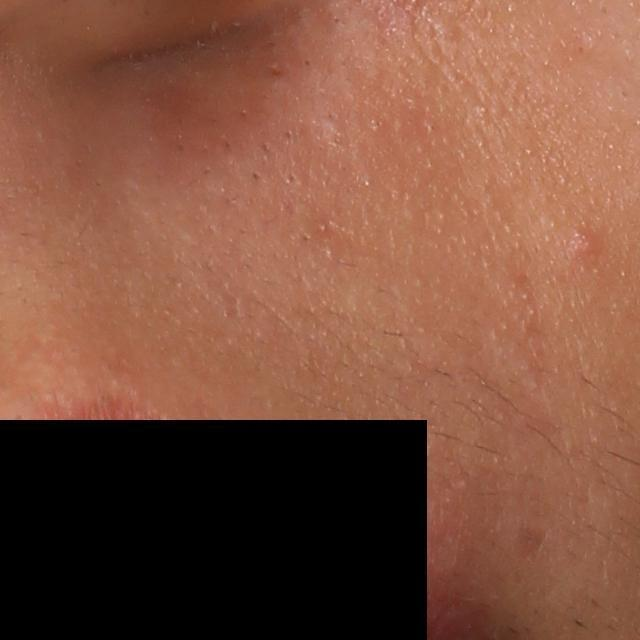papule: (565, 225, 603, 262)
